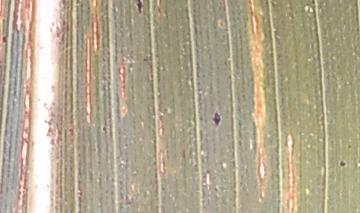tarspot: (210, 108, 224, 129), (130, 1, 147, 18), (337, 158, 348, 170), (1, 33, 10, 45), (101, 125, 108, 133)
